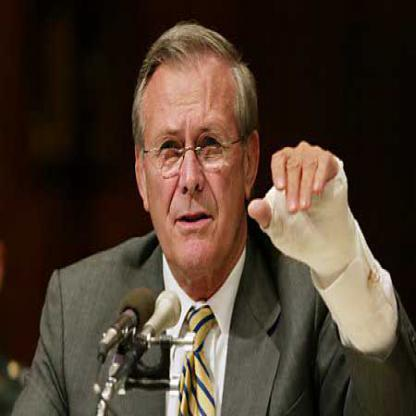face: (144, 25, 248, 276)
